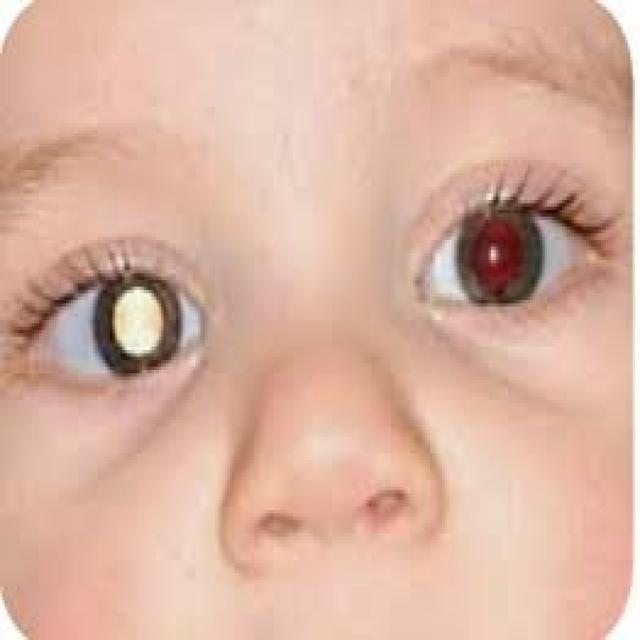reflexo-alterado: (419, 196, 590, 356)
reflexo-normal: (46, 252, 208, 406)
